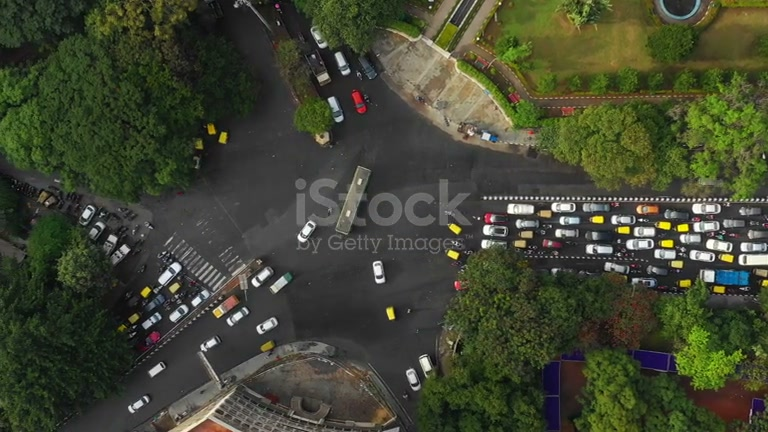car: (248, 266, 274, 289)
